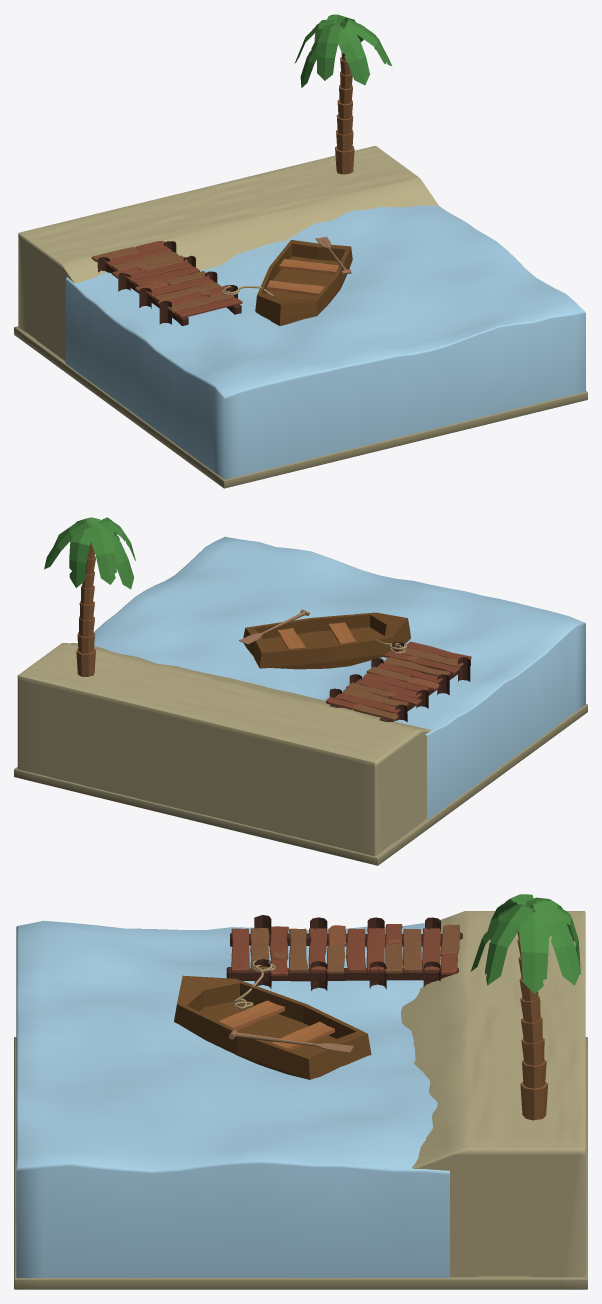
The model's file is Isla.fbx.
3 views of the same model, one above another, from view 1: azimuth 30°, elevation 25°; view 2: azimuth 150°, elevation 25°; view 3: azimuth 270°, elevation 25° (orthographic). The views are drawn at different scales.
Parts seen in each view (by area): view 1: Wasser, Strand, Meeresgrund, Cube.023, Plane, Plane.008, Plane.001; view 2: Strand, Wasser, Cube.023, Meeresgrund, Plane.006, Plane.003, Plane.004, Plane.005, Cube.009, Cube.015, Cube.006, Cube.007 (+3 smaller); view 3: Wasser, Strand, Cube.023, Meeresgrund, Plane.002, Cube.017, Plane.005, Plane.001, Cube, Cylinder.009, Cube.006, Cube.002 (+13 smaller).
Boxes of the visible parts, x1=… form: Wasser: x1=65, y1=205, x2=585, y2=479; Strand: x1=18, y1=146, x2=439, y2=361; Meeresgrund: x1=14, y1=326, x2=587, y2=488; Cube.023: x1=255, y1=240, x2=352, y2=325; Plane: x1=337, y1=27, x2=369, y2=85; Plane.008: x1=316, y1=23, x2=342, y2=80; Plane.001: x1=340, y1=19, x2=391, y2=65; Strand: x1=17, y1=643, x2=431, y2=856; Wasser: x1=94, y1=536, x2=585, y2=820; Cube.023: x1=243, y1=612, x2=410, y2=669; Meeresgrund: x1=14, y1=704, x2=587, y2=865; Plane.006: x1=89, y1=524, x2=116, y2=584; Plane.003: x1=69, y1=528, x2=94, y2=587; Plane.004: x1=106, y1=527, x2=134, y2=589; Plane.005: x1=44, y1=518, x2=93, y2=569; Cube.009: x1=383, y1=657, x2=450, y2=676; Cube.015: x1=397, y1=647, x2=463, y2=667; Cube.006: x1=362, y1=673, x2=428, y2=691; Cube.007: x1=355, y1=678, x2=421, y2=698; Wasser: x1=16, y1=920, x2=449, y2=1277; Strand: x1=401, y1=911, x2=585, y2=1276; Cube.023: x1=174, y1=975, x2=371, y2=1079; Meeresgrund: x1=14, y1=1037, x2=587, y2=1289; Plane.002: x1=519, y1=910, x2=549, y2=993; Cube.017: x1=226, y1=966, x2=458, y2=981; Plane.005: x1=530, y1=900, x2=580, y2=985; Plane.001: x1=485, y1=905, x2=535, y2=985; Cube: x1=219, y1=1000, x2=284, y2=1029; Cylinder.009: x1=520, y1=1081, x2=548, y2=1120; Cube.006: x1=346, y1=928, x2=366, y2=972; Cube.002: x1=403, y1=928, x2=421, y2=972.
Size of the model in its own units: 2000 by 1350 by 2000.
